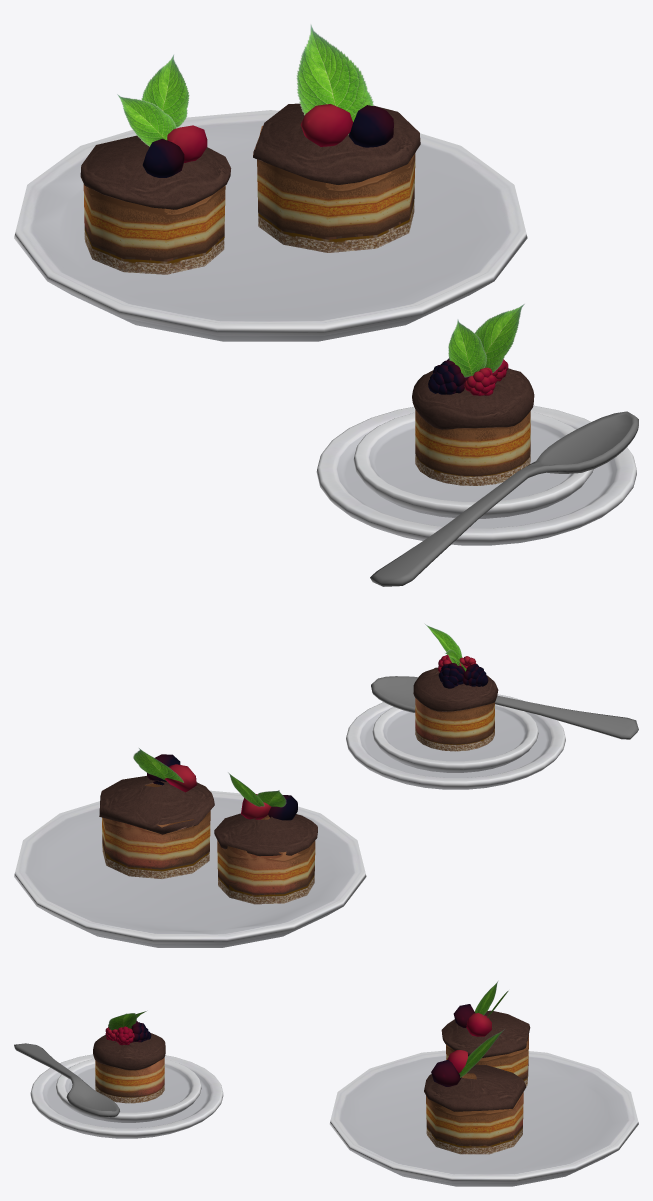
The picture shows the model from 3 angles, top to bottom: view 1: azimuth 30°, elevation 25°; view 2: azimuth 150°, elevation 25°; view 3: azimuth 270°, elevation 25°; orthographic projection. The views are drawn at different scales.
Visible parts, largest first — view 1: spoon_2obj:spoon_2obj:spoon_2obj:polySurface1_spoon_2obj:pho (×2); view 2: spoon_2obj:spoon_2obj:spoon_2obj:polySurface1_spoon_2obj:pho (×2); view 3: spoon_2obj:spoon_2obj:spoon_2obj:polySurface1_spoon_2obj:pho (×2).
Boxes of the visible parts, left/top/right/bottom form: spoon_2obj:spoon_2obj:spoon_2obj:polySurface1_spoon_2obj:pho (×2): left=14, top=24, right=638, bottom=586; spoon_2obj:spoon_2obj:spoon_2obj:polySurface1_spoon_2obj:pho (×2): left=14, top=623, right=638, bottom=947; spoon_2obj:spoon_2obj:spoon_2obj:polySurface1_spoon_2obj:pho (×2): left=14, top=980, right=638, bottom=1186.
Size of the model in its own units: 9.77 by 3.9 by 17.9.
Materials: 2 (2 with a texture image).
